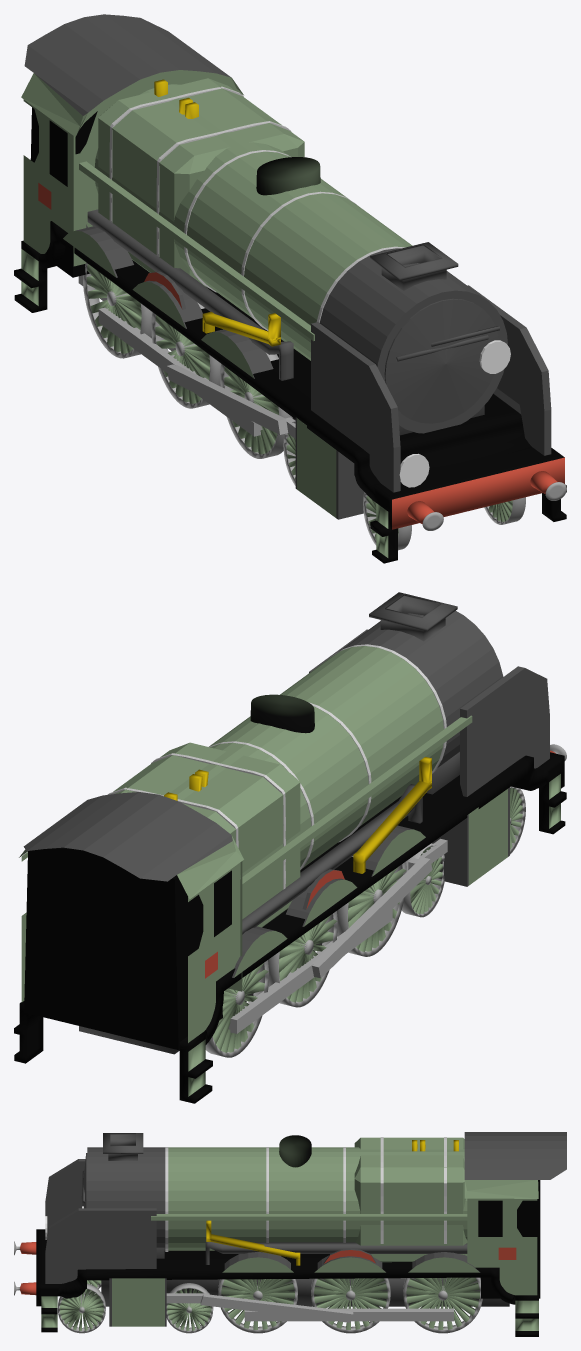
File: sr-lord-nelson.dae
3 views of the same model, one above another, from view 1: azimuth 30°, elevation 25°; view 2: azimuth 150°, elevation 25°; view 3: azimuth 270°, elevation 25° (orthographic). The views are drawn at different scales.
Visible parts, largest first — view 1: Cylinder_024, Cube_019, Tube, Cube_017, Cube_018, Cylinder_009, Plane_003, Cube_009, Cube_034, Cube_006, Cube_001, Cylinder_013 (+16 smaller); view 2: Cylinder_024, Cube_014, Tube, Cube_019, Cube_017, Cube_018, Plane_003, Cube_009, Cube_034, Cube_001, Cube_006, Cylinder_001 (+12 smaller); view 3: Cylinder_024, Cube_017, Cube_019, Cube_018, Tube, Plane_004, Cube_010, Cylinder_013, Cylinder_001, Cube_020, Cylinder_000, Cube_005 (+15 smaller).
Part boxes in pixels (<box>): Cylinder_024: <box>94,84,507,433</box>; Cube_019: <box>14,221,566,563</box>; Tube: <box>21,14,243,266</box>; Cube_017: <box>98,78,304,288</box>; Cube_018: <box>311,285,551,492</box>; Cylinder_009: <box>384,298,498,423</box>; Plane_003: <box>23,99,75,253</box>; Cube_009: <box>98,307,295,438</box>; Cube_034: <box>295,417,364,519</box>; Cube_006: <box>87,209,293,380</box>; Cube_001: <box>79,161,314,341</box>; Cylinder_013: <box>83,263,152,358</box>; Cylinder_024: <box>170,611,503,877</box>; Cube_014: <box>24,847,222,1050</box>; Tube: <box>19,792,243,991</box>; Cube_019: <box>14,752,566,1103</box>; Cube_017: <box>113,742,300,927</box>; Cube_018: <box>309,629,549,796</box>; Plane_003: <box>188,862,240,1042</box>; Cube_009: <box>228,838,447,1033</box>; Cube_034: <box>432,787,509,886</box>; Cube_001: <box>240,715,472,890</box>; Cube_006: <box>242,784,422,934</box>; Cylinder_001: <box>268,911,337,1007</box>; Cylinder_024: <box>87,1147,467,1250</box>; Cube_017: <box>354,1137,467,1262</box>; Cube_019: <box>36,1229,538,1336</box>; Cube_018: <box>45,1159,156,1283</box>; Tube: <box>464,1132,566,1198</box>; Plane_004: <box>467,1198,537,1295</box>; Cube_010: <box>166,1293,453,1322</box>; Cylinder_013: <box>403,1277,482,1333</box>; Cylinder_001: <box>311,1278,390,1333</box>; Cube_020: <box>109,1278,166,1326</box>; Cylinder_000: <box>218,1279,297,1333</box>; Cube_005: <box>205,1238,467,1264</box>.
Bounding box in the file's own units: 2.05 × 7.88 × 2.72.
